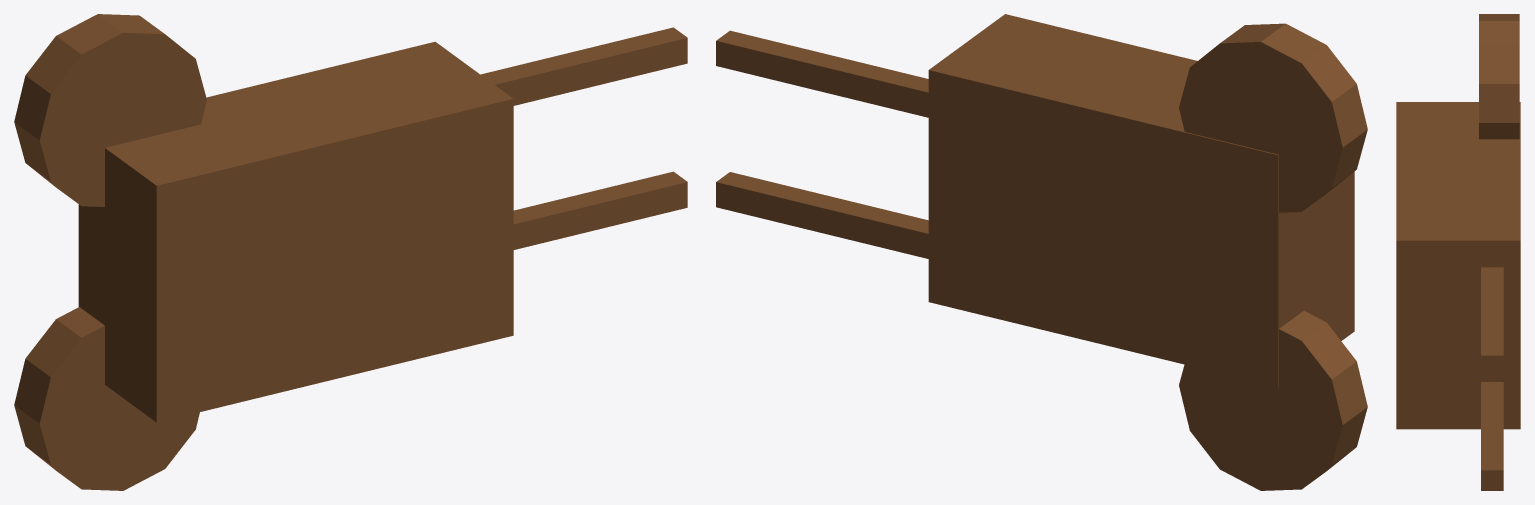
Rendered from SM_CommonHandcart.obj.
3 renders of one model, left to right at view 1: azimuth 30°, elevation 25°; view 2: azimuth 150°, elevation 25°; view 3: azimuth 270°, elevation 25°, orthographic. The views are drawn at different scales.
Visible parts, largest first — view 1: SM_CommonHandcart; view 2: SM_CommonHandcart; view 3: SM_CommonHandcart.
Boxes of the visible parts, x1,y1,x2,y2 form: SM_CommonHandcart: (14, 14, 687, 490); SM_CommonHandcart: (716, 14, 1367, 490); SM_CommonHandcart: (1396, 14, 1520, 490).
Bounding box in the file's own units: 264 × 178 × 55.
